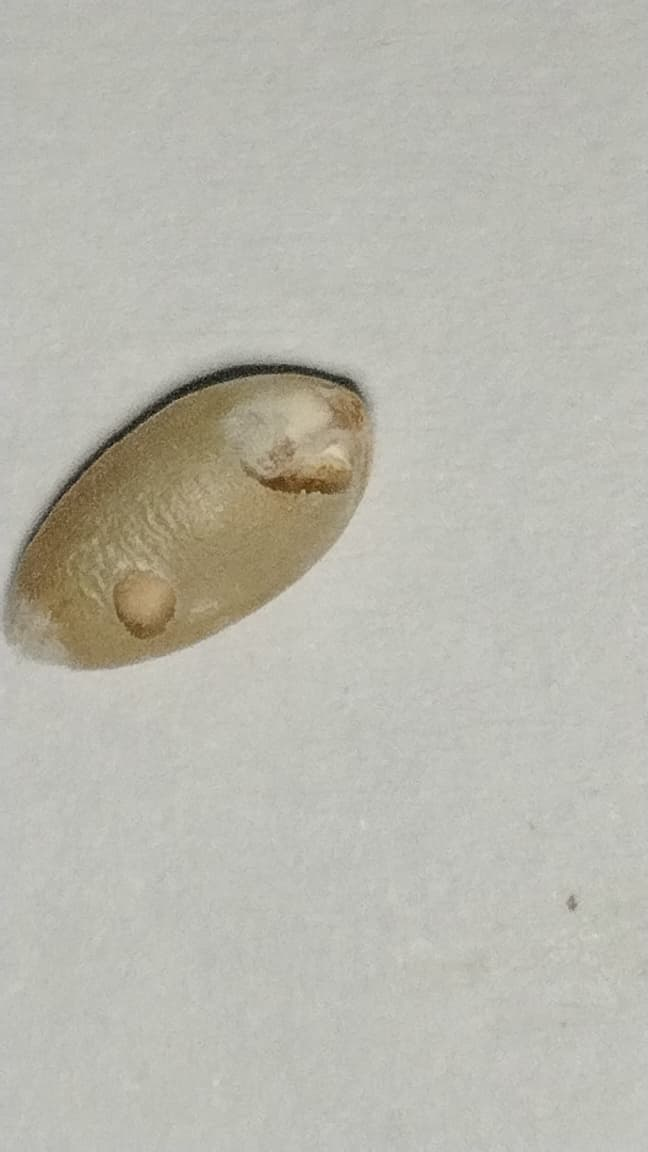damage: (5, 373, 373, 668)
insectdamage: (229, 388, 363, 493), (98, 530, 193, 650)
